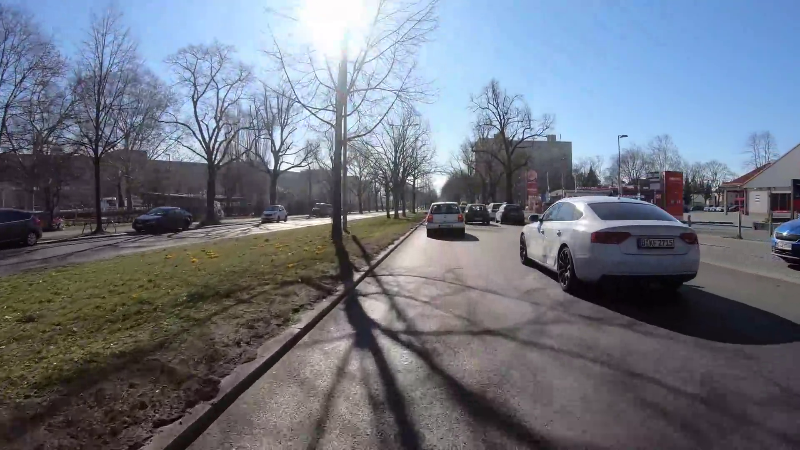Plate: (636, 236, 675, 248), (774, 239, 792, 250), (437, 224, 454, 228)
